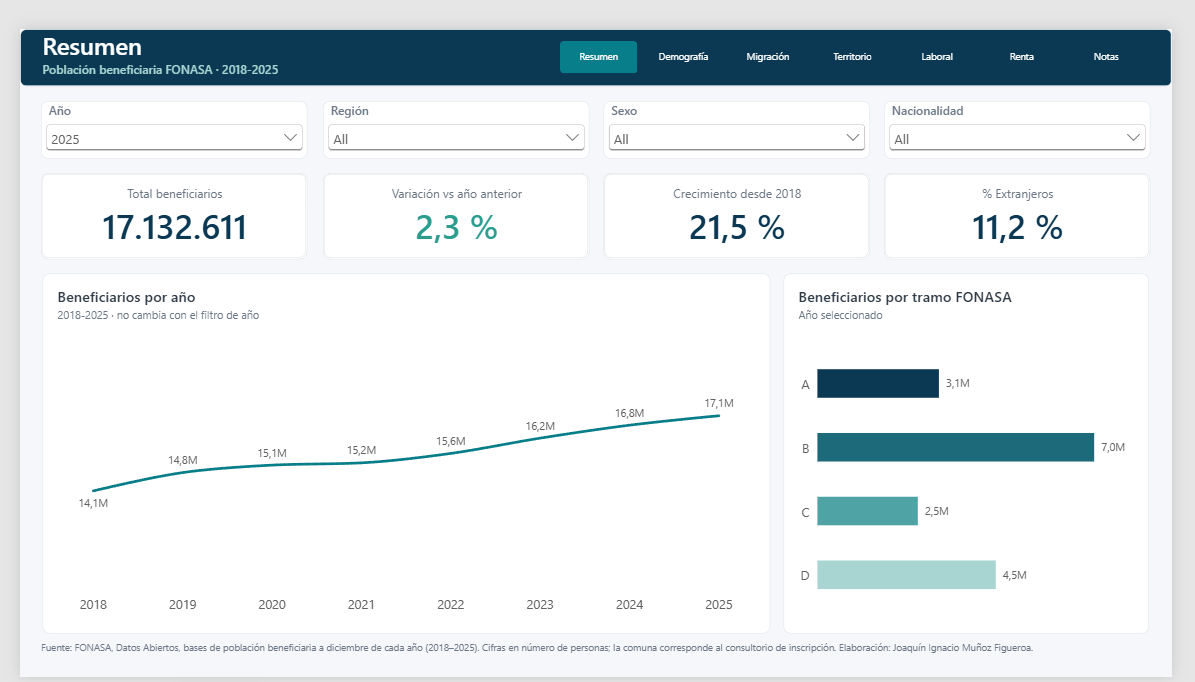

The dashboard page shown, as its layout file describes it:
{"tool":"powerbi","page":{"name":"Resumen","canvas":[1280,720],"ordinal":0},"visuals":[{"type":"shape","box":[0,0,1280,64],"z":0},{"type":"textbox","title":"Resumen","box":[24.6,0,559.4,64.3],"z":1000},{"type":"pageNavigator","box":[600,14,656,36],"z":2000},{"type":"textbox","title":"Fuente: FONASA, Datos Abiertos, bases de población beneficiaria a diciembre de cada año (2018-2025). Cifras en número de personas; variación respecto al año anterior y crecimiento respecto a 2018. Ela","box":[24,680,1232,28],"z":3000},{"type":"slicer","fields":{"Values":["Fonasa.anio"]},"box":[24,80,296,64],"z":4000},{"type":"slicer","fields":{"Values":["Fonasa.Región"]},"box":[336,80,296,64],"z":5000},{"type":"slicer","fields":{"Values":["Fonasa.sexo"]},"box":[648,80,296,64],"z":6000},{"type":"slicer","fields":{"Values":["Fonasa.nacionalidad"]},"box":[960,80,296,64],"z":7000},{"type":"cardVisual","fields":{"Data":["Measures Table (DAX).Total_Beneficiarios"]},"box":[24,160,296,96],"z":8000},{"type":"cardVisual","fields":{"Data":["Measures Table (DAX).Variación_%_Beneficiarios"]},"box":[336,160,296,96],"z":9000},{"type":"cardVisual","fields":{"Data":["Measures Table (DAX).Crecimiento_%_Desde_2018"]},"box":[648,160,296,96],"z":10000},{"type":"cardVisual","fields":{"Data":["Measures Table (DAX).%_Beneficiarios_Extranjeros"]},"box":[960,160,296,96],"z":11000},{"type":"lineChart","title":"Beneficiarios por año","fields":{"Category":["Fonasa.anio"],"Y":["Measures Table (DAX).Total_Beneficiarios"]},"box":[24.2,272,808.6,400],"z":12000},{"type":"barChart","title":"Beneficiarios por tramo FONASA","fields":{"Category":["Fonasa.tramo_fonasa"],"Y":["Measures Table (DAX).Total_Beneficiarios"]},"box":[848,272,406.3,400],"z":13000}]}

Visuals, with their boxes in screenshot pixels (x1, y1, x2, y2), scaled from the page's 1280x720 canvas onto the 1195x682 screenshot:
shape: rect(0, 0, 1194, 61)
"Resumen" textbox: rect(23, 0, 545, 61)
pageNavigator: rect(560, 13, 1173, 47)
"Fuente: FONASA, Datos Abiertos, bases de población beneficiaria a diciembre de cada año (2018-2025). Cifras en número de personas; variación respecto al año anterior y crecimiento respecto a 2018. Ela" textbox: rect(22, 644, 1173, 671)
slicer - Fonasa.anio: rect(22, 76, 299, 136)
slicer - Fonasa.Región: rect(314, 76, 590, 136)
slicer - Fonasa.sexo: rect(605, 76, 881, 136)
slicer - Fonasa.nacionalidad: rect(896, 76, 1173, 136)
cardVisual - Measures Table (DAX).Total_Beneficiarios: rect(22, 152, 299, 242)
cardVisual - Measures Table (DAX).Variación_%_Beneficiarios: rect(314, 152, 590, 242)
cardVisual - Measures Table (DAX).Crecimiento_%_Desde_2018: rect(605, 152, 881, 242)
cardVisual - Measures Table (DAX).%_Beneficiarios_Extranjeros: rect(896, 152, 1173, 242)
"Beneficiarios por año" lineChart: rect(23, 258, 777, 637)
"Beneficiarios por tramo FONASA" barChart: rect(792, 258, 1171, 637)
